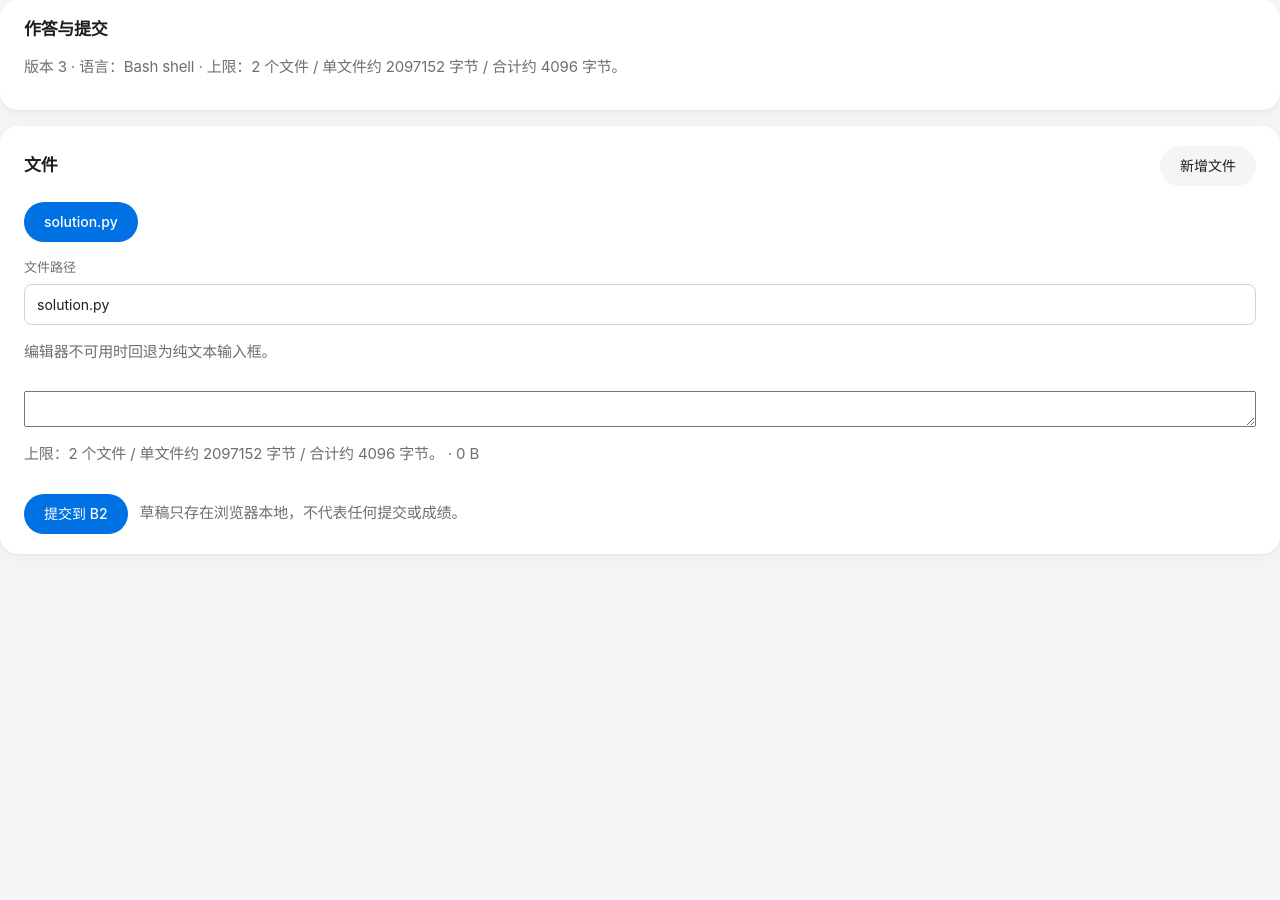
Test: 作答与提交（RQ-B-1-50） › 提交前校验拦截非法路径，且不发任何提交请求
The width and height of the screenshot is (1280, 900).
expect the field with test id "active-file-path" holds "solution.py": met, box [24,284,1256,324]
Type "print(1)" into the text box with test id "code-editor-fallback" at (640, 409), box [24,391,1256,427]
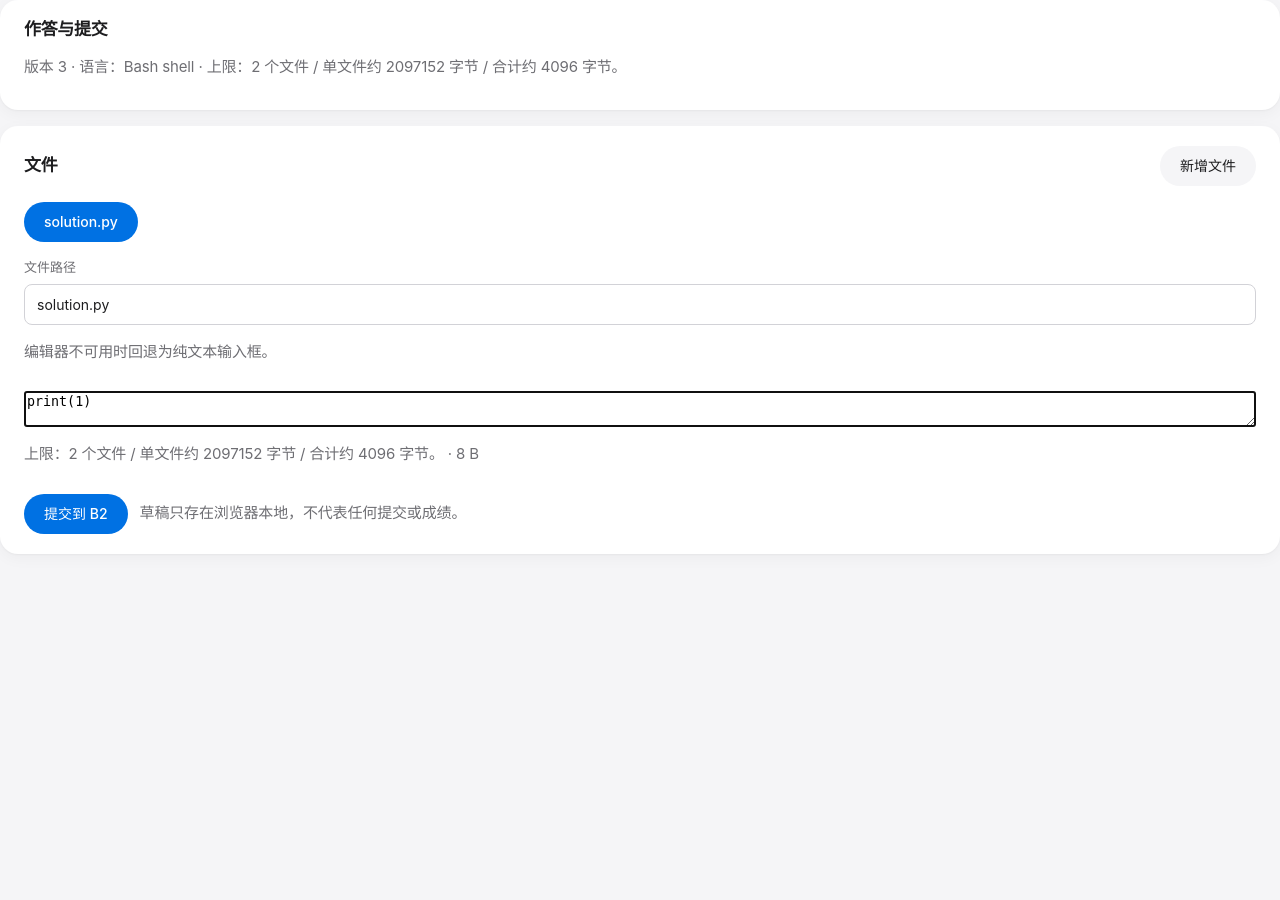
Replace the text in the field with test id "active-file-path" with "../escape.py" at (640, 304), box [24,284,1256,324]
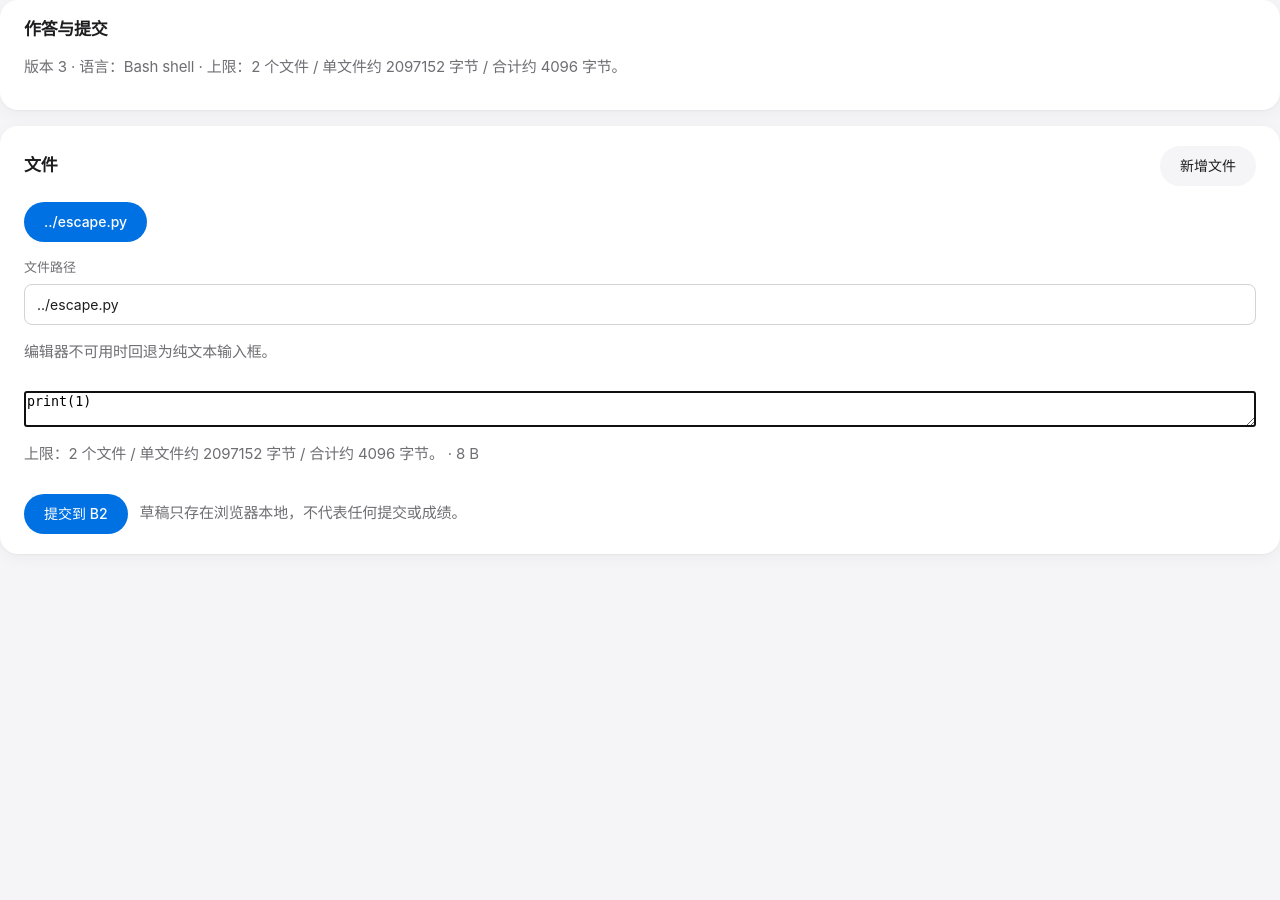
Click the button with test id "submit-answer" at (76, 514), box [24,494,128,534]
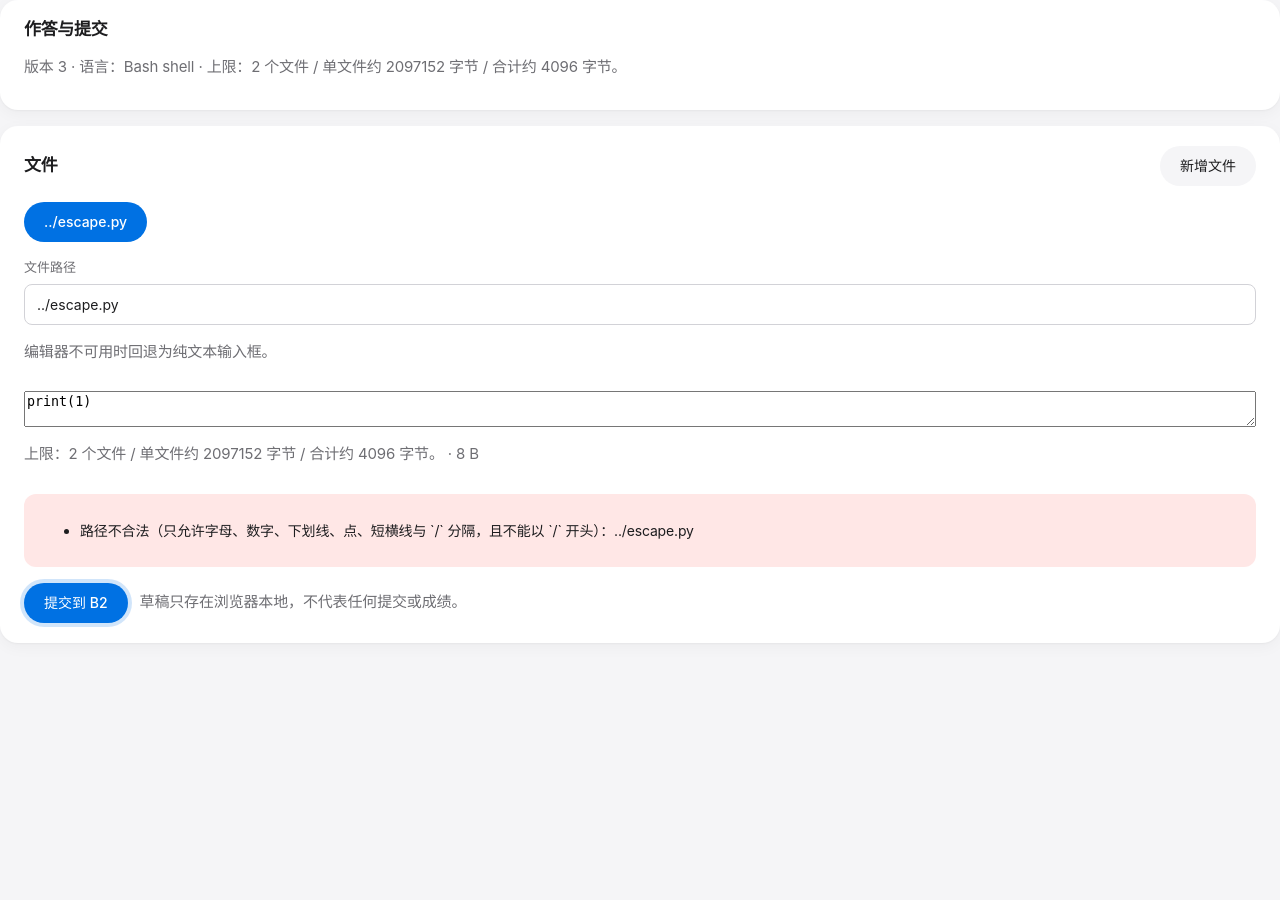
expect the message with test id "validation-issues" shows "路径不合法": met, box [80,522,694,538]
